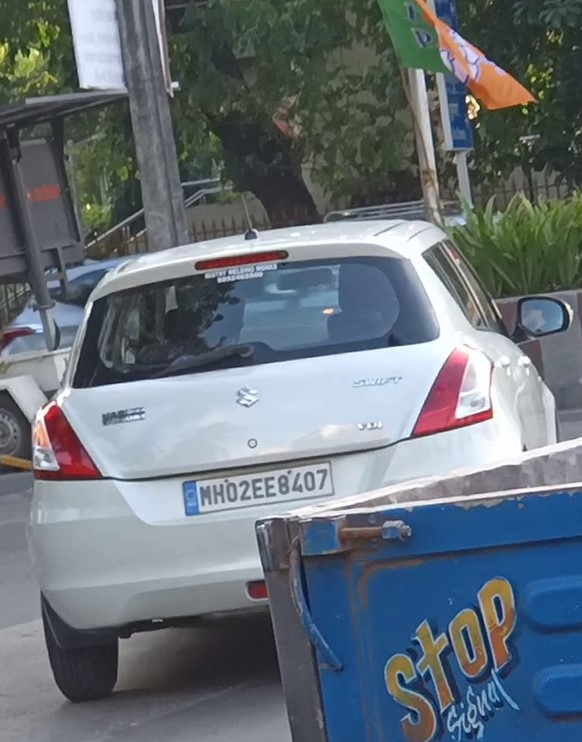MH02EE8407: (181, 459, 335, 517)
